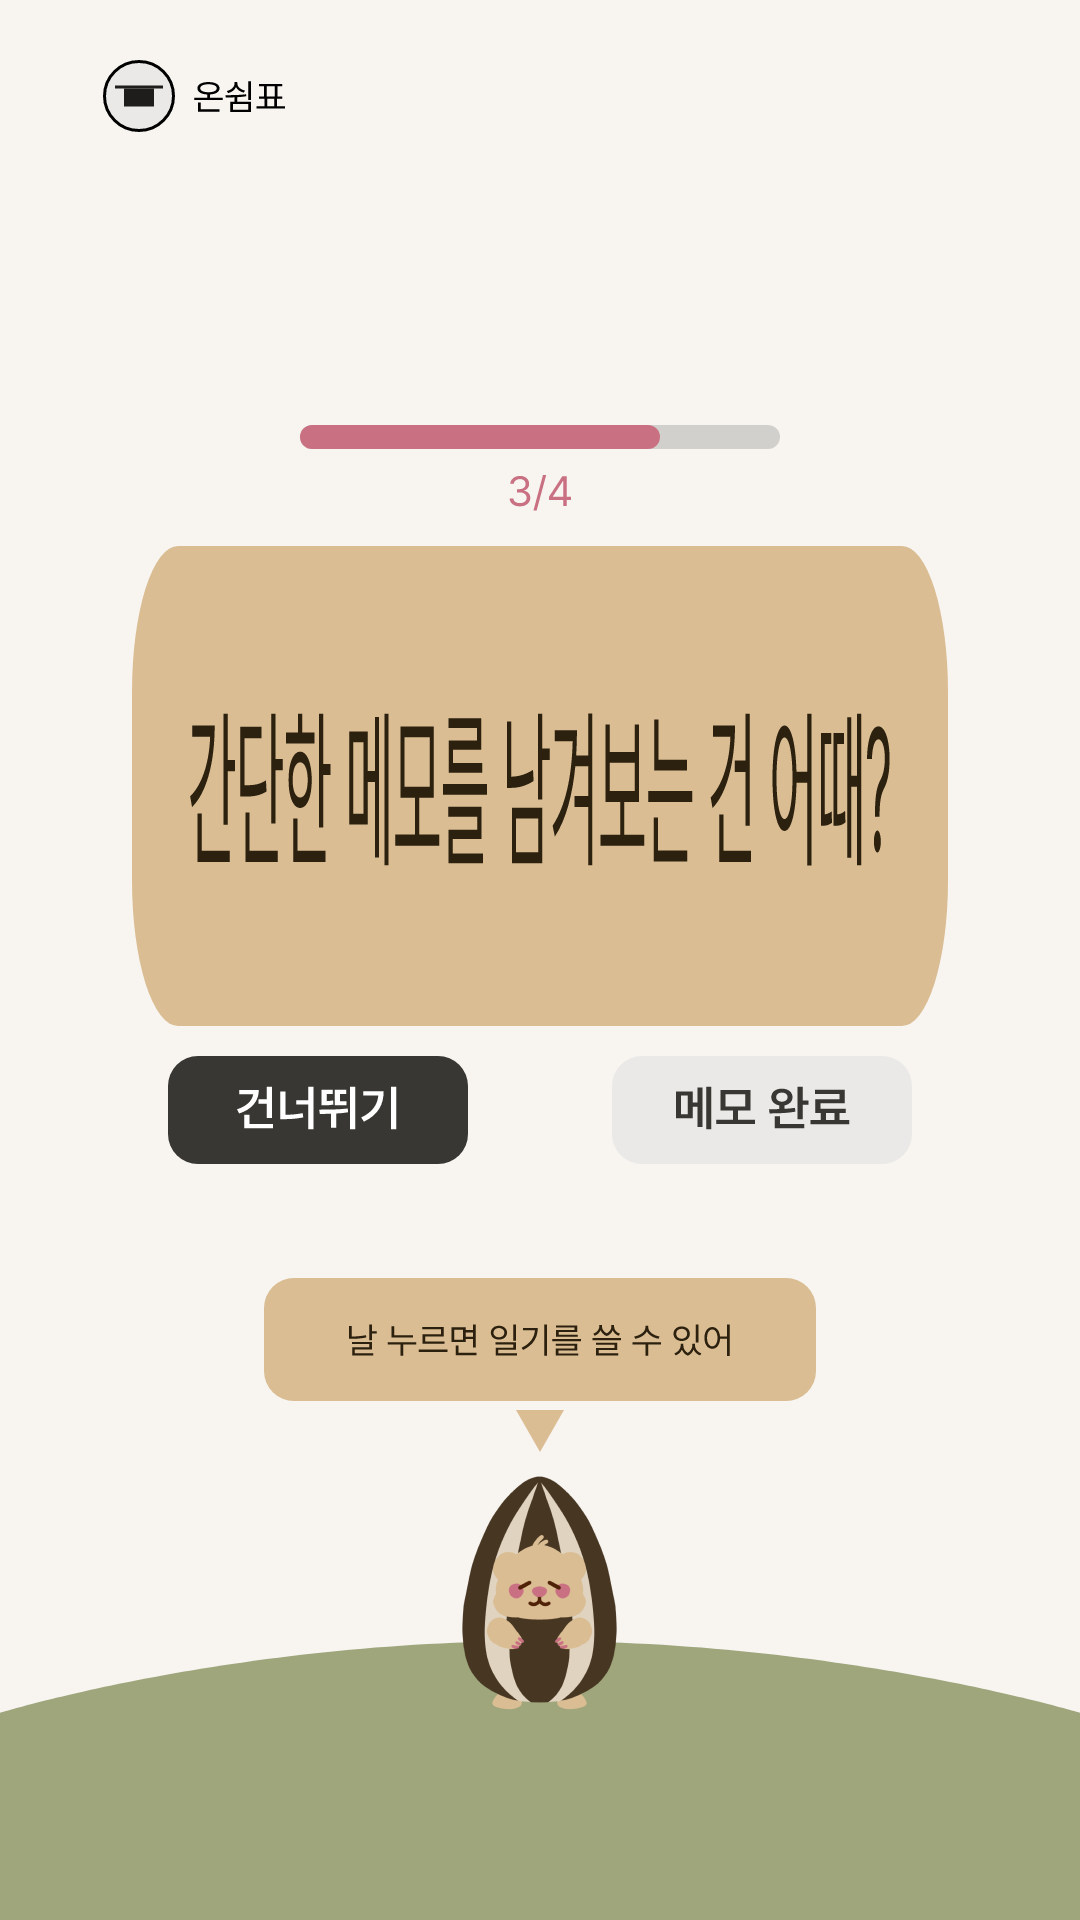

Icon click points for this 1080px x 1920px phone screenshot, format point (x, y):
stripe: point (540, 1593)
